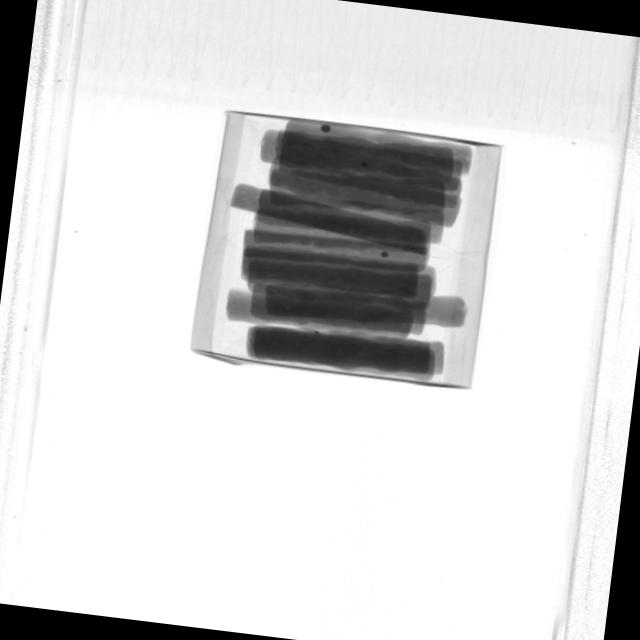ym: (320, 123, 332, 134), (381, 251, 390, 259), (360, 161, 368, 169), (315, 331, 320, 336)
